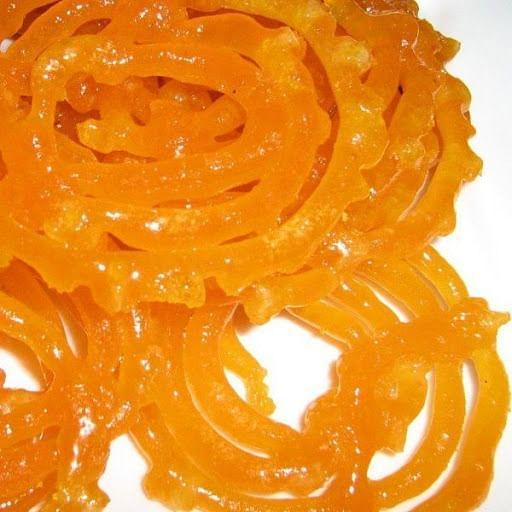jalebi: (0, 5, 477, 512)
